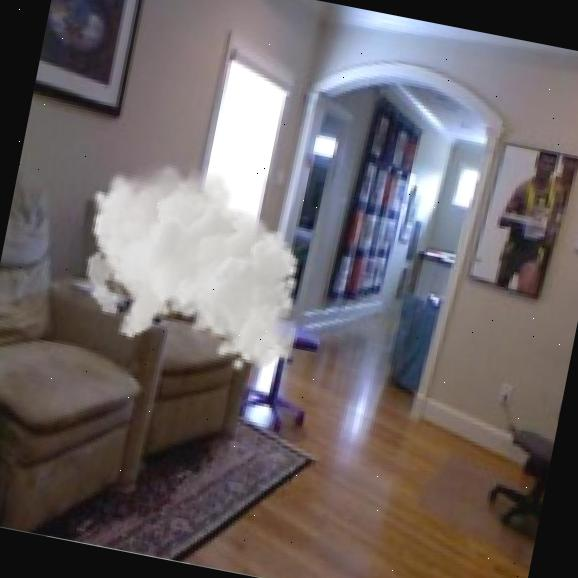smoke: (63, 143, 326, 383)
